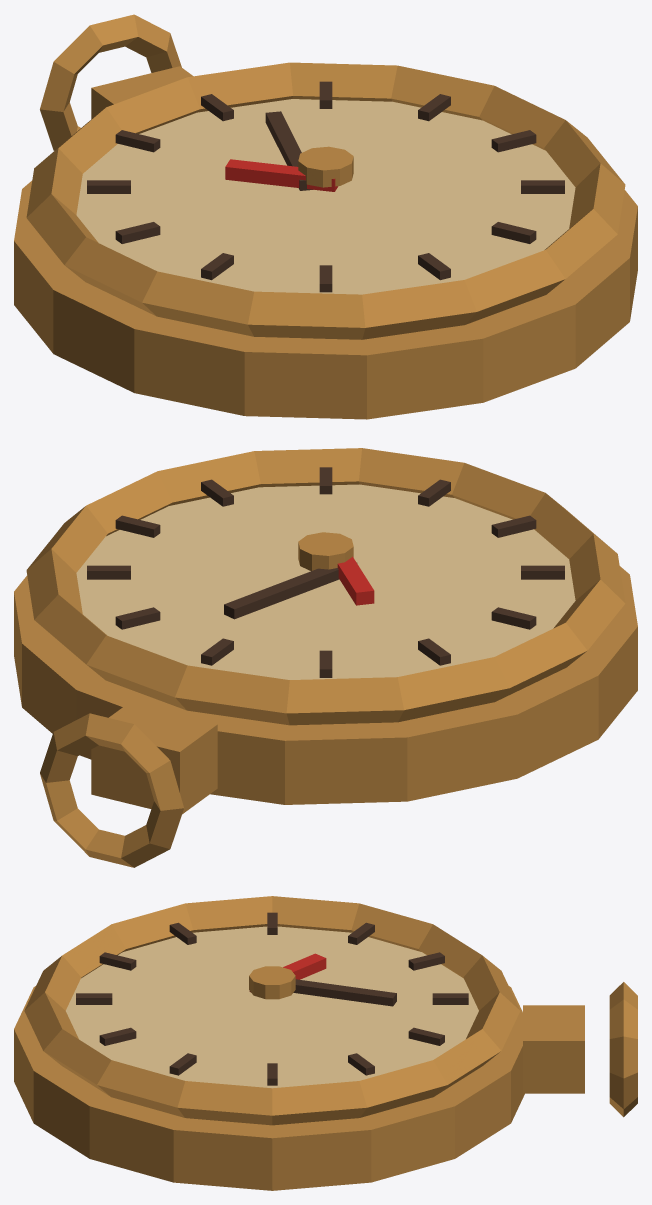
Rendered from pocket_watch.glb.
3 renders of one model, top to bottom at view 1: azimuth 30°, elevation 25°; view 2: azimuth 150°, elevation 25°; view 3: azimuth 270°, elevation 25°, orthographic. The views are drawn at different scales.
Visible parts, largest first — view 1: WatchFace, WatchCase, WatchBezel, Loop, Crown, Pivot, HourHand, MinuteHand, Hour4, Hour12, Hour6, Hour10 (+2 smaller); view 2: WatchFace, WatchBezel, WatchCase, Loop, Crown, MinuteHand, Pivot, HourHand, Hour3, Hour9, Hour2, Hour10 (+2 smaller); view 3: WatchFace, WatchCase, WatchBezel, Crown, Loop, MinuteHand, Pivot, HourHand, Hour8, Hour6, Hour1, Hour7 (+2 smaller).
Boxes of the visible parts, x1=… form: WatchFace: x1=76, y1=99, x2=575, y2=294; WatchCase: x1=14, y1=180, x2=637, y2=419; WatchBezel: x1=26, y1=62, x2=625, y2=339; Loop: x1=40, y1=14, x2=181, y2=150; Crown: x1=91, y1=66, x2=193, y2=118; Pivot: x1=298, y1=146, x2=353, y2=187; HourHand: x1=225, y1=159, x2=337, y2=191; MinuteHand: x1=265, y1=111, x2=313, y2=190; Hour4: x1=491, y1=130, x2=536, y2=152; Hour12: x1=115, y1=130, x2=160, y2=152; Hour6: x1=491, y1=222, x2=536, y2=243; Hour10: x1=115, y1=222, x2=160, y2=243; WatchFace: x1=76, y1=484, x2=575, y2=679; WatchBezel: x1=26, y1=448, x2=625, y2=725; WatchCase: x1=14, y1=566, x2=637, y2=804; Loop: x1=40, y1=713, x2=183, y2=867; Crown: x1=91, y1=703, x2=217, y2=814; MinuteHand: x1=224, y1=563, x2=357, y2=619; Pivot: x1=298, y1=532, x2=353, y2=570; HourHand: x1=337, y1=556, x2=374, y2=605; Hour3: x1=87, y1=565, x2=130, y2=579; Hour9: x1=521, y1=565, x2=564, y2=579; Hour2: x1=115, y1=607, x2=160, y2=629; Hour10: x1=491, y1=607, x2=536, y2=629; WatchFace: x1=66, y1=926, x2=478, y2=1088; WatchCase: x1=14, y1=986, x2=524, y2=1190; WatchBezel: x1=24, y1=896, x2=520, y2=1125; Crown: x1=523, y1=1005, x2=584, y2=1093; Loop: x1=609, y1=982, x2=637, y2=1117; MinuteHand: x1=293, y1=979, x2=396, y2=1006; Pivot: x1=249, y1=966, x2=295, y2=999; HourHand: x1=249, y1=953, x2=326, y2=992; Hour8: x1=99, y1=952, x2=136, y2=970; Hour6: x1=99, y1=1027, x2=136, y2=1045; Hour1: x1=432, y1=993, x2=468, y2=1004; Hour7: x1=76, y1=993, x2=112, y2=1004.
Bounding box in the file's own units: 4 × 1.13 × 4.83.
